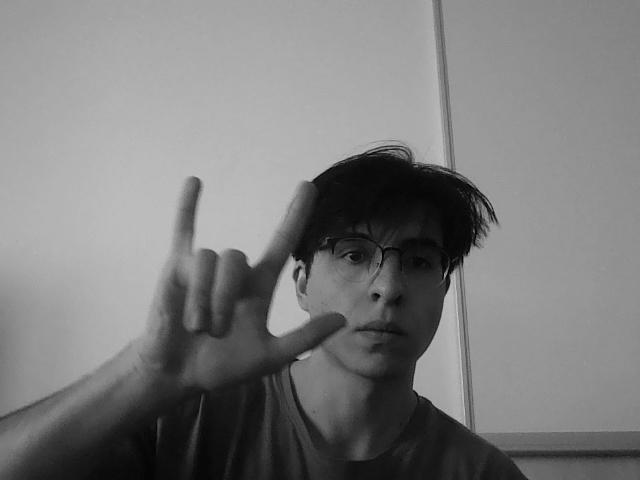I_Love_You: (168, 171, 306, 387)
